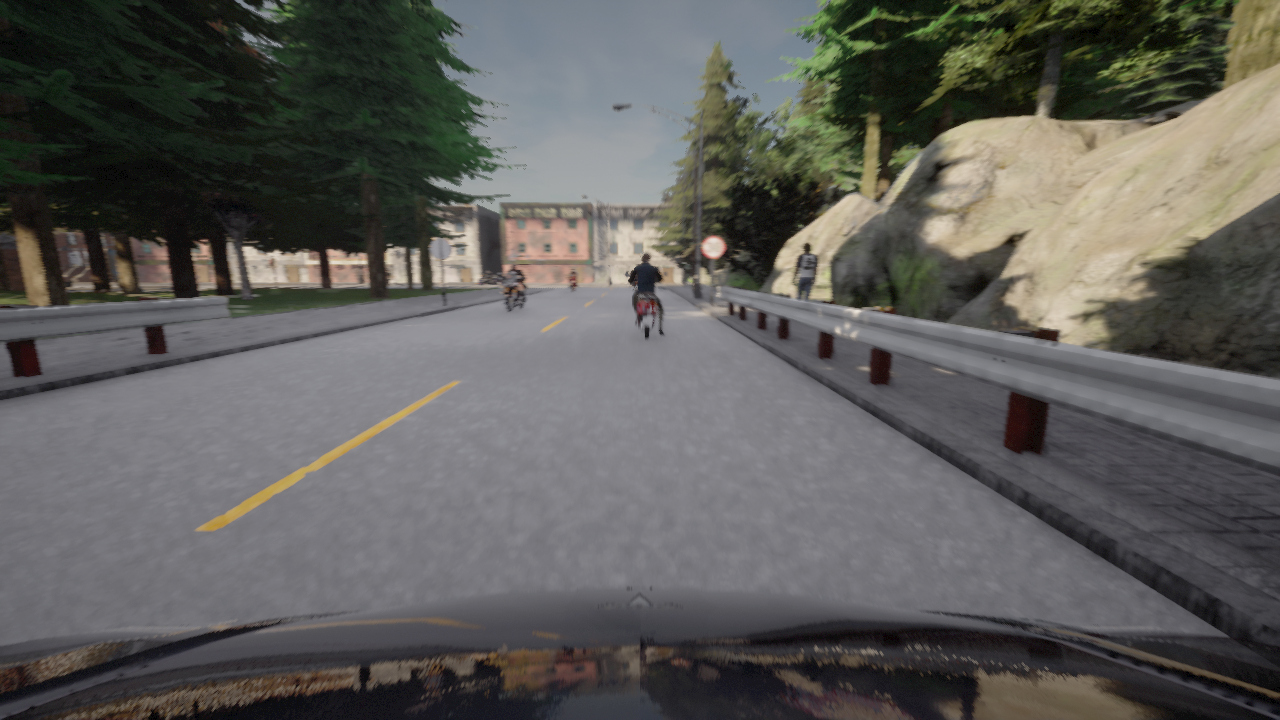cyclist: (0, 588, 1279, 719), (625, 271, 668, 339), (497, 272, 528, 312), (479, 273, 501, 285), (568, 274, 578, 292), (388, 279, 397, 285), (634, 284, 637, 289)
pedestrian: (793, 243, 817, 300)
